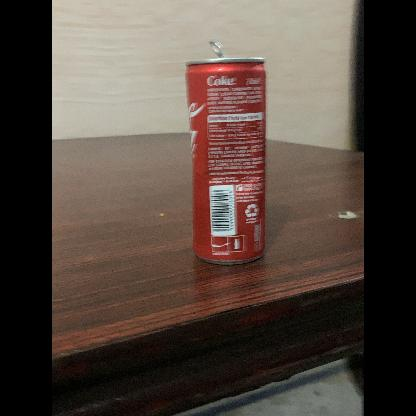Dent_Can: (217, 163, 265, 189), (206, 165, 232, 185), (194, 154, 209, 174)
Lid_Open: (207, 35, 241, 63)
Tin_Can: (181, 38, 278, 272)
